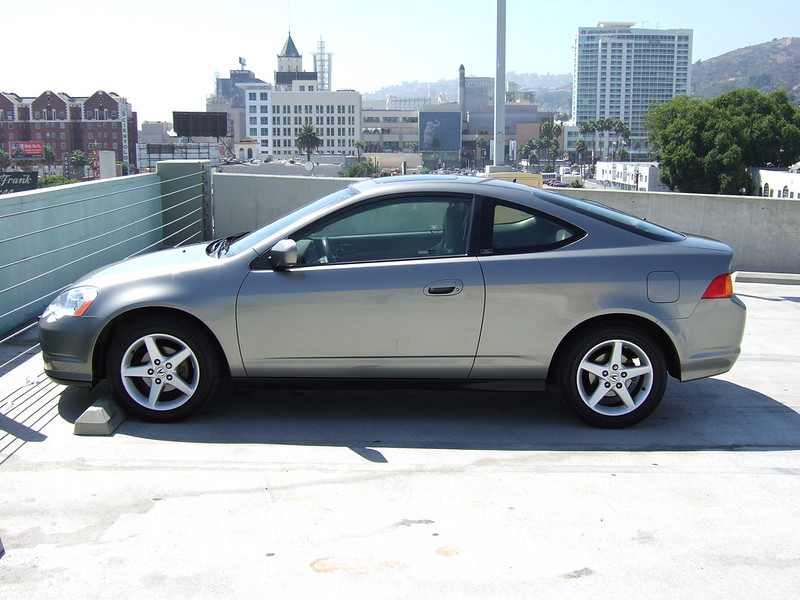car: (34, 178, 750, 427)
